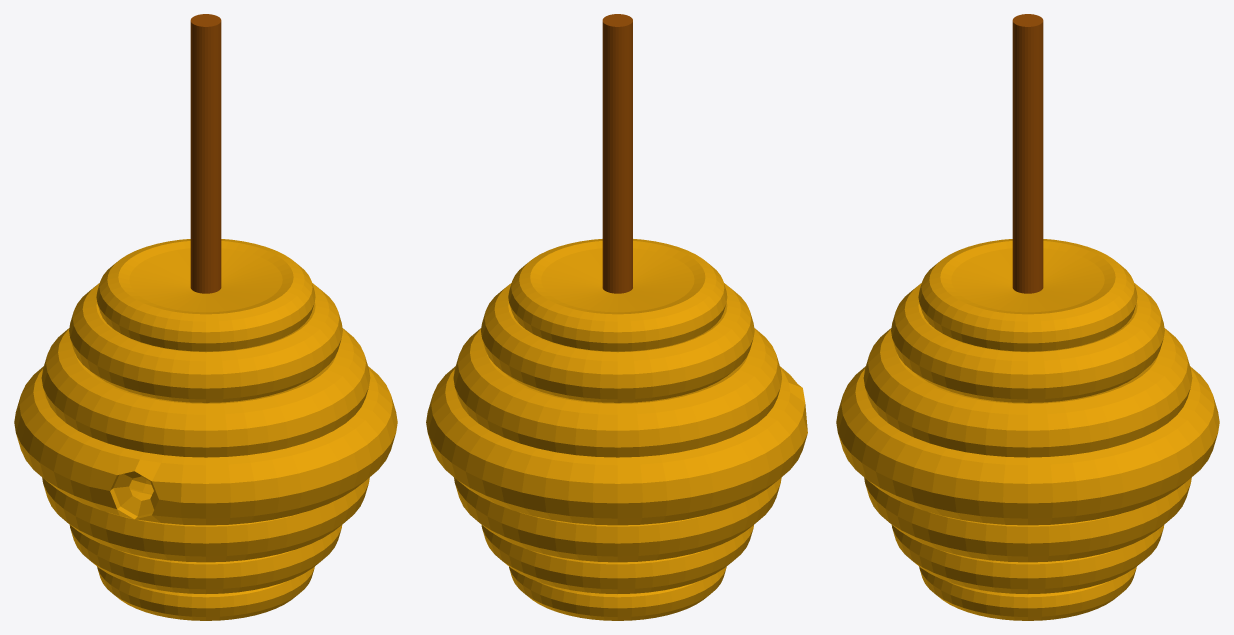
File: beehive.fbx
3 views of the same model, side by side, from view 1: azimuth 30°, elevation 25°; view 2: azimuth 150°, elevation 25°; view 3: azimuth 270°, elevation 25° (orthographic).
Visible parts, largest first — view 1: Torus.006, Cylinder; view 2: Torus.006, Cylinder; view 3: Torus.006, Cylinder.
Boxes of the visible parts, x1,y1,x2,y2 form: Torus.006: [14, 239, 397, 620]; Cylinder: [190, 14, 221, 293]; Torus.006: [426, 239, 807, 620]; Cylinder: [602, 14, 632, 293]; Torus.006: [836, 239, 1219, 620]; Cylinder: [1012, 14, 1043, 293].
Bounding box in the file's own units: 175 × 283 × 175.
